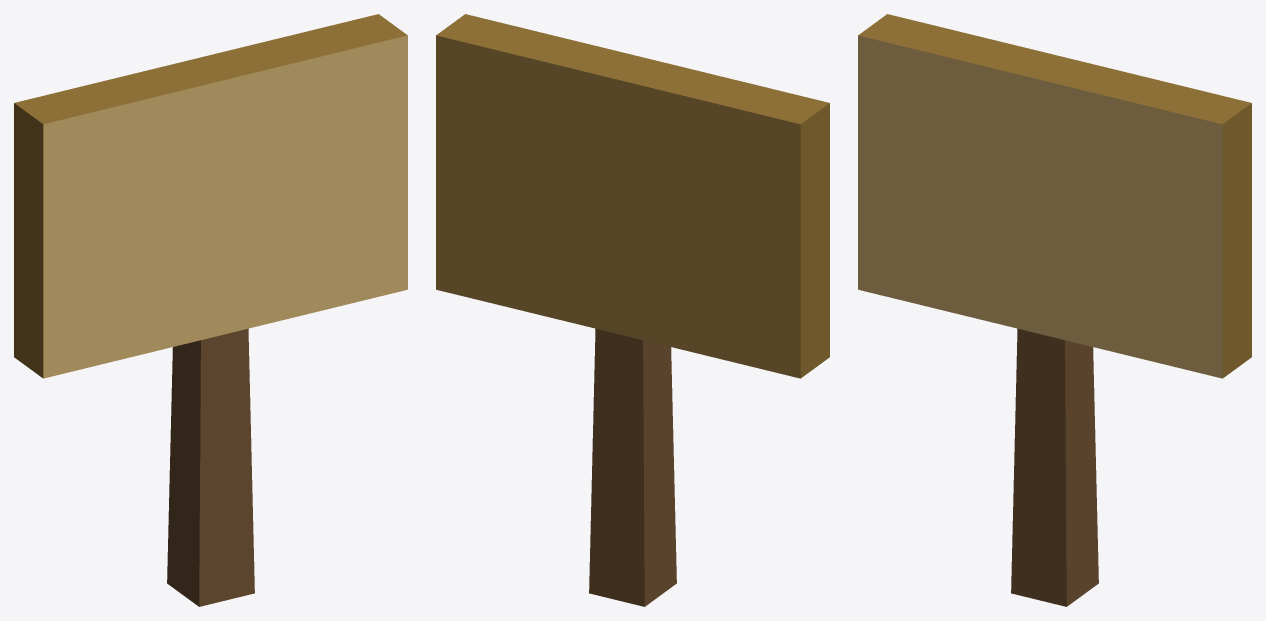
The model's file is sign.obj.
3 views of the same model, side by side, from view 1: azimuth 30°, elevation 25°; view 2: azimuth 150°, elevation 25°; view 3: azimuth 330°, elevation 25° (orthographic).
Size of the model in its own units: 0.72 by 0.98 by 0.11.
